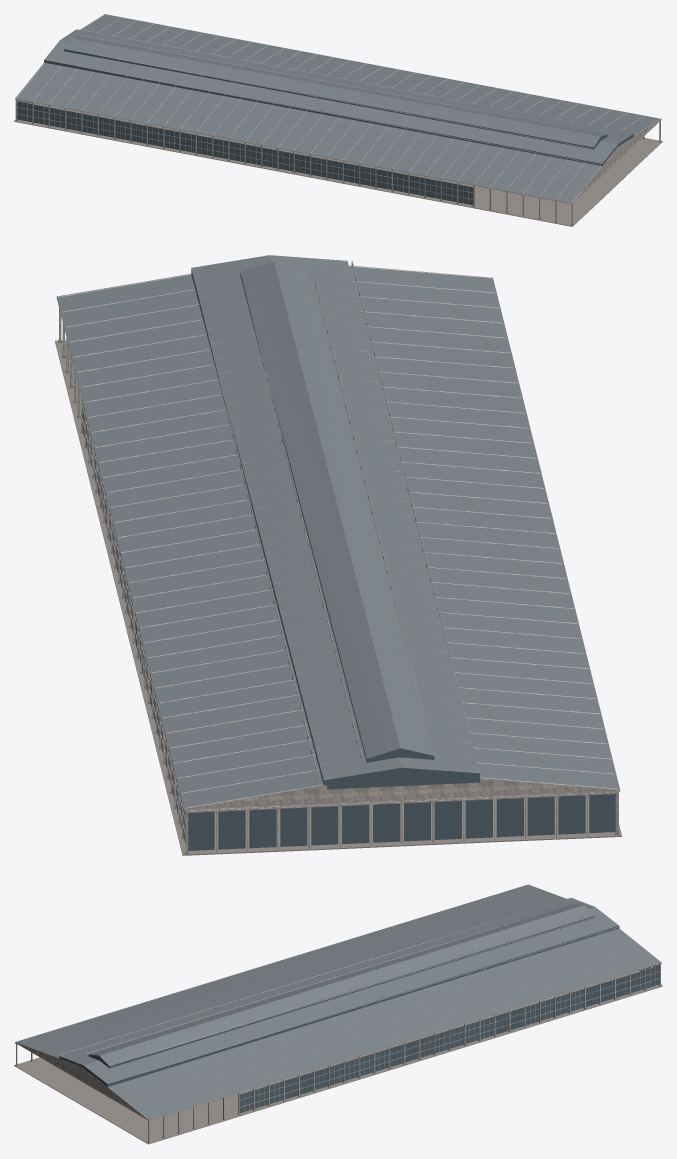
The model's file is grande-halle-de-la-villette.glb.
3 views of the same model, one above another, from view 1: azimuth 30°, elevation 25°; view 2: azimuth 150°, elevation 25°; view 3: azimuth 270°, elevation 25° (orthographic). The views are drawn at different scales.
Parts seen in each view (by area): view 1: roof, glass, trim, stone; view 2: roof, trim, glass, stone; view 3: roof, glass, trim, stone.
Boxes of the visible parts, x1=… form: roof: x1=15, y1=14, x2=661, y2=203; glass: x1=17, y1=49, x2=633, y2=205; trim: x1=15, y1=14, x2=661, y2=224; stone: x1=14, y1=103, x2=662, y2=226; roof: x1=56, y1=255, x2=619, y2=808; trim: x1=56, y1=260, x2=620, y2=852; glass: x1=82, y1=269, x2=615, y2=850; stone: x1=55, y1=339, x2=621, y2=855; roof: x1=16, y1=884, x2=661, y2=1119; glass: x1=59, y1=916, x2=659, y2=1113; trim: x1=15, y1=885, x2=661, y2=1141; stone: x1=14, y1=971, x2=662, y2=1144.
Size of the model in its own units: 213 by 19 by 246.
4 materials, 4 textured.
